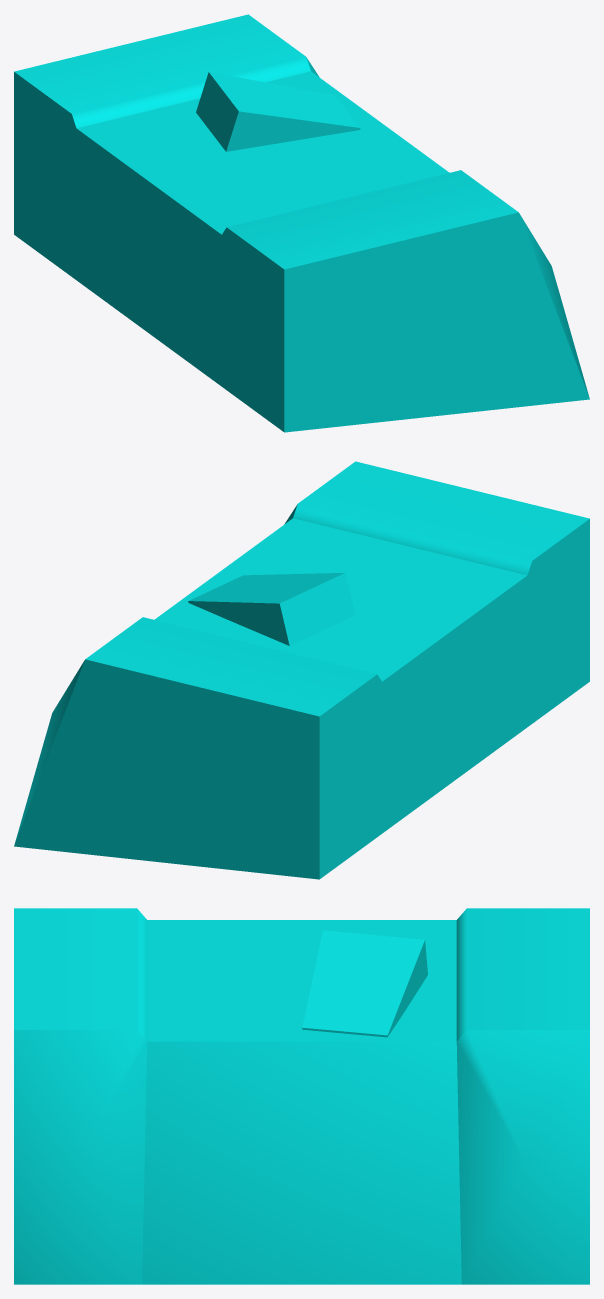
File: SM_Bld_Bridge_L_Broken_01_Collision.fbx
The picture shows the model from 3 angles, top to bottom: view 1: azimuth 30°, elevation 25°; view 2: azimuth 150°, elevation 25°; view 3: azimuth 270°, elevation 25°; orthographic projection. The views are drawn at different scales.
Parts seen in each view (by area): view 1: SM_Bld_Bridge_L_Broken_01_Collision; view 2: SM_Bld_Bridge_L_Broken_01_Collision; view 3: SM_Bld_Bridge_L_Broken_01_Collision.
Boxes of the visible parts, x1,y1,x2,y2 form: SM_Bld_Bridge_L_Broken_01_Collision: (14,14,589,432); SM_Bld_Bridge_L_Broken_01_Collision: (14,461,589,879); SM_Bld_Bridge_L_Broken_01_Collision: (14,908,589,1284).
Bounding box in the file's own units: 326 × 237 × 500.
